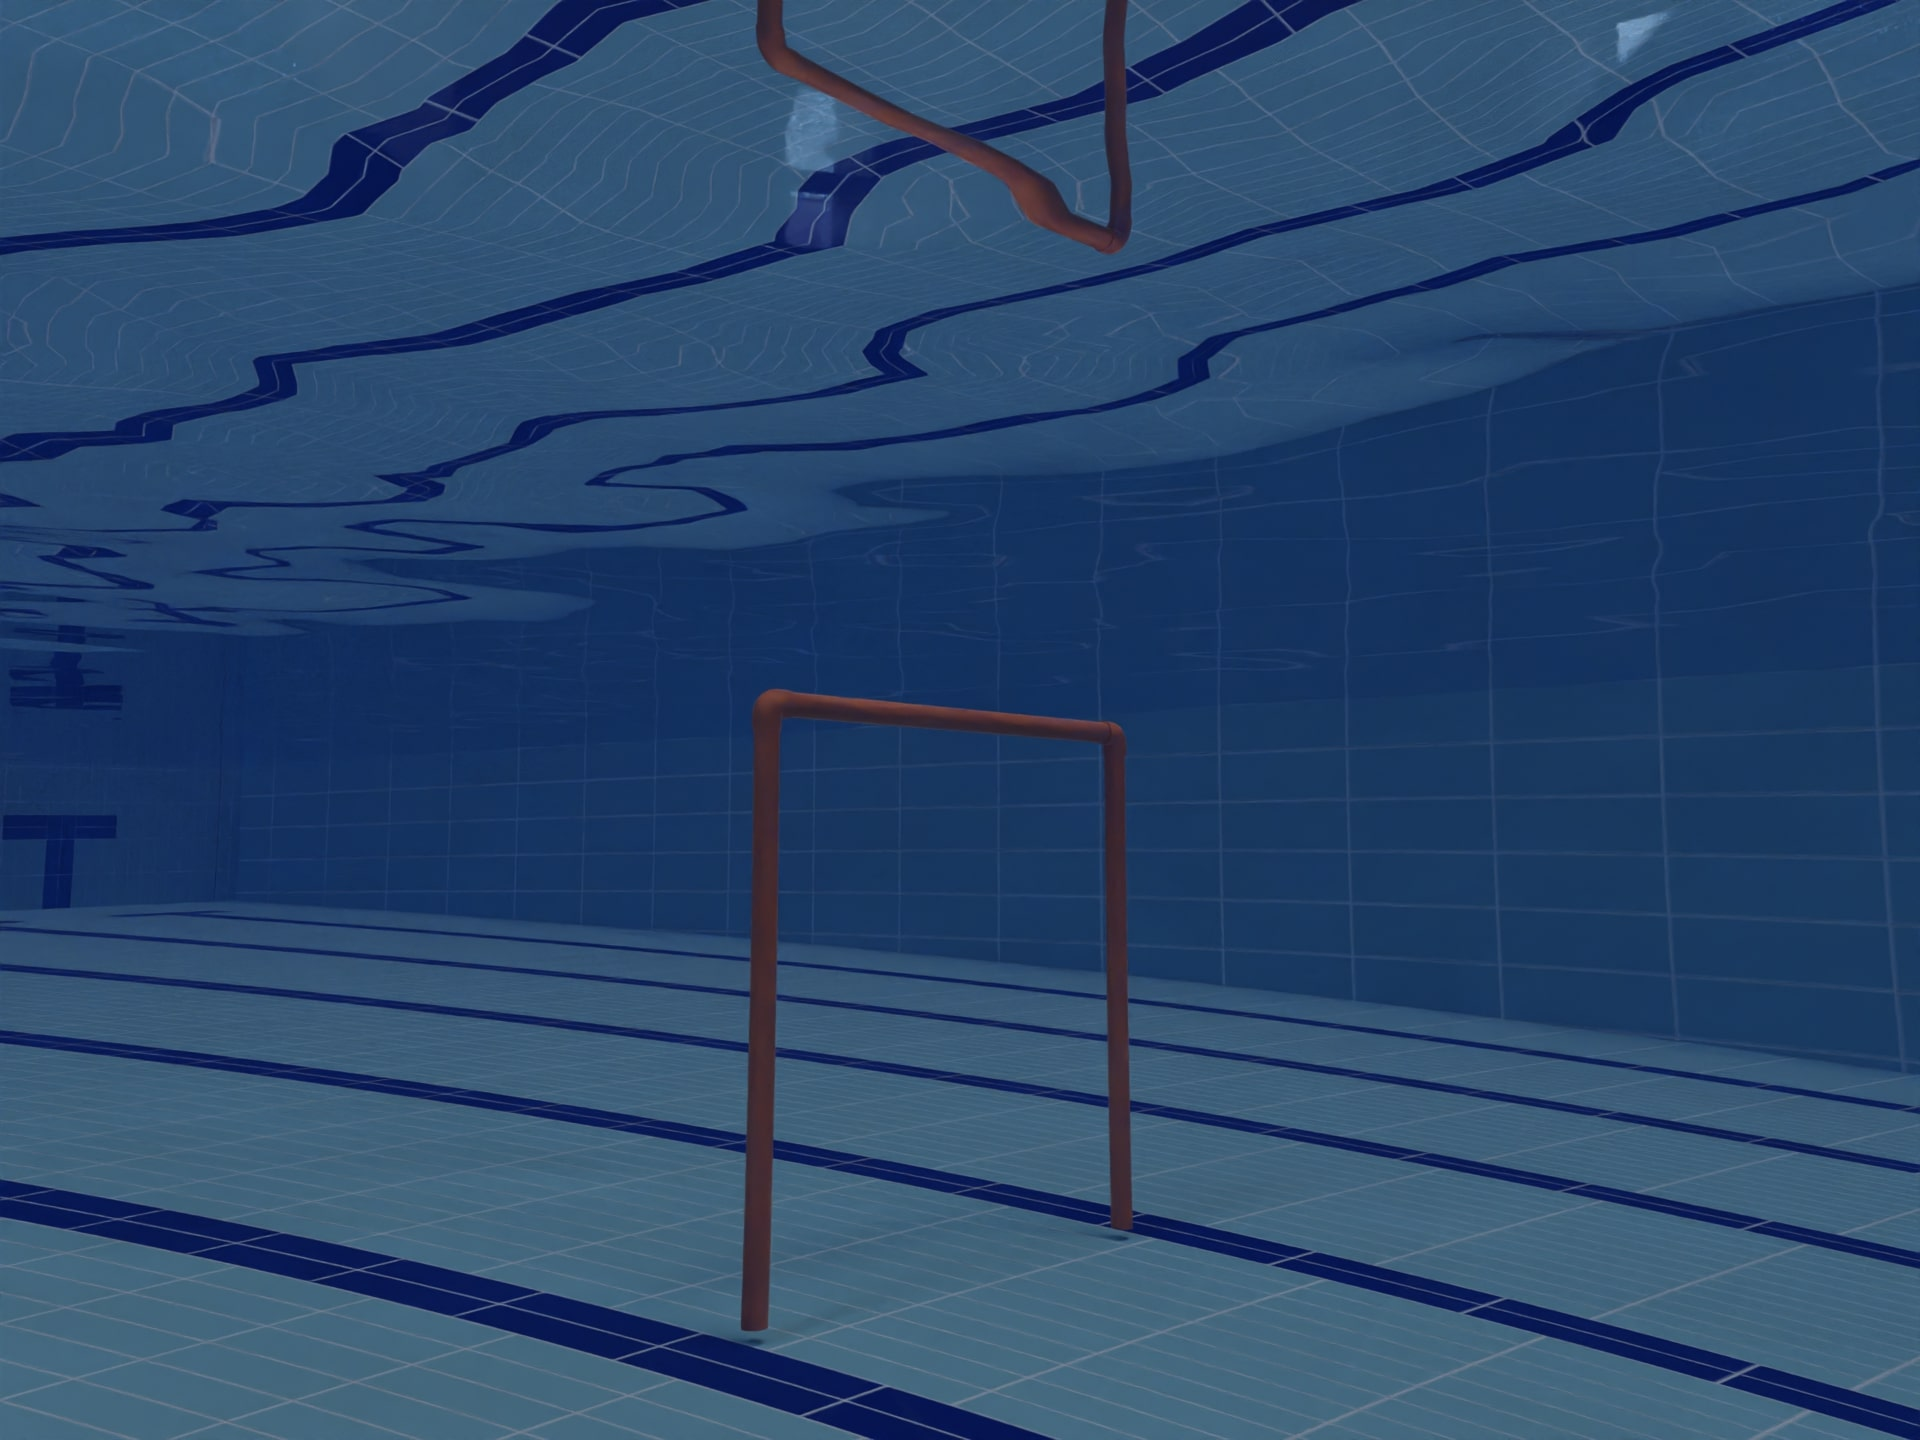gate: (712, 641, 1184, 1355)
